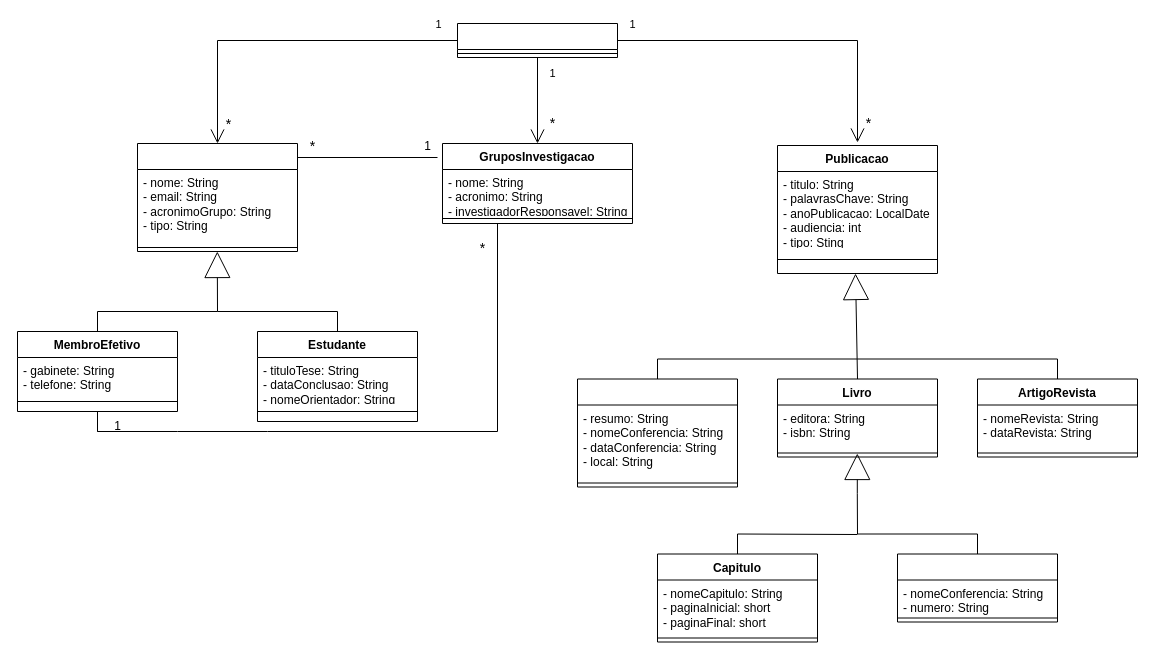
Some shapes in this 1155 by 659 pixel diagram are drawn without their labels. The shapes that lost their labels are listed below. From the top down, each one's box as (x1, y1, x2, y2) in pixels, then its label:
(456, 22, 618, 58): Cisuc
(136, 142, 298, 252): Investigadores
(576, 378, 738, 487): ArtigoConferencia
(896, 553, 1058, 622): LivroArtigos
